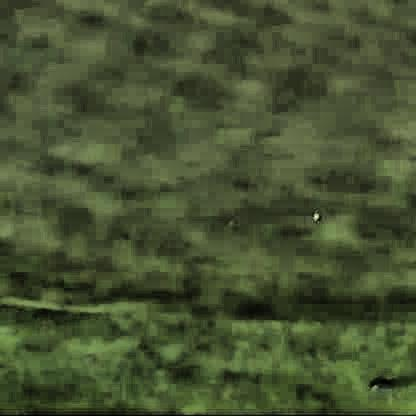golfball: (309, 212, 319, 219)
